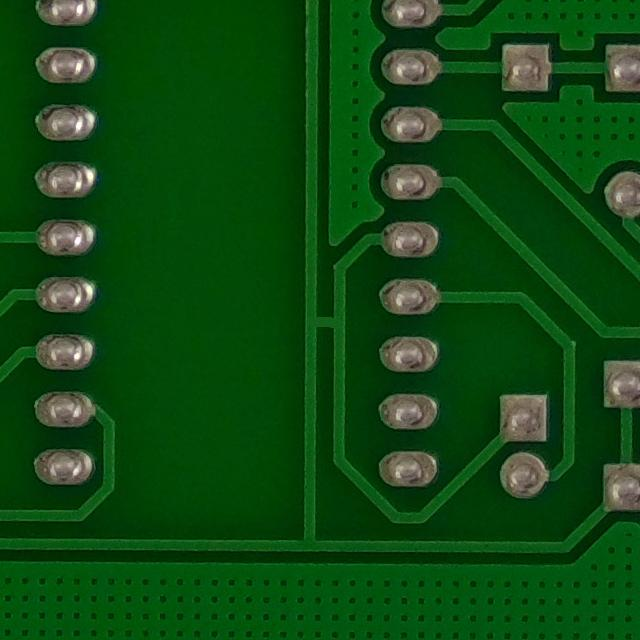short: (286, 292, 355, 349)
